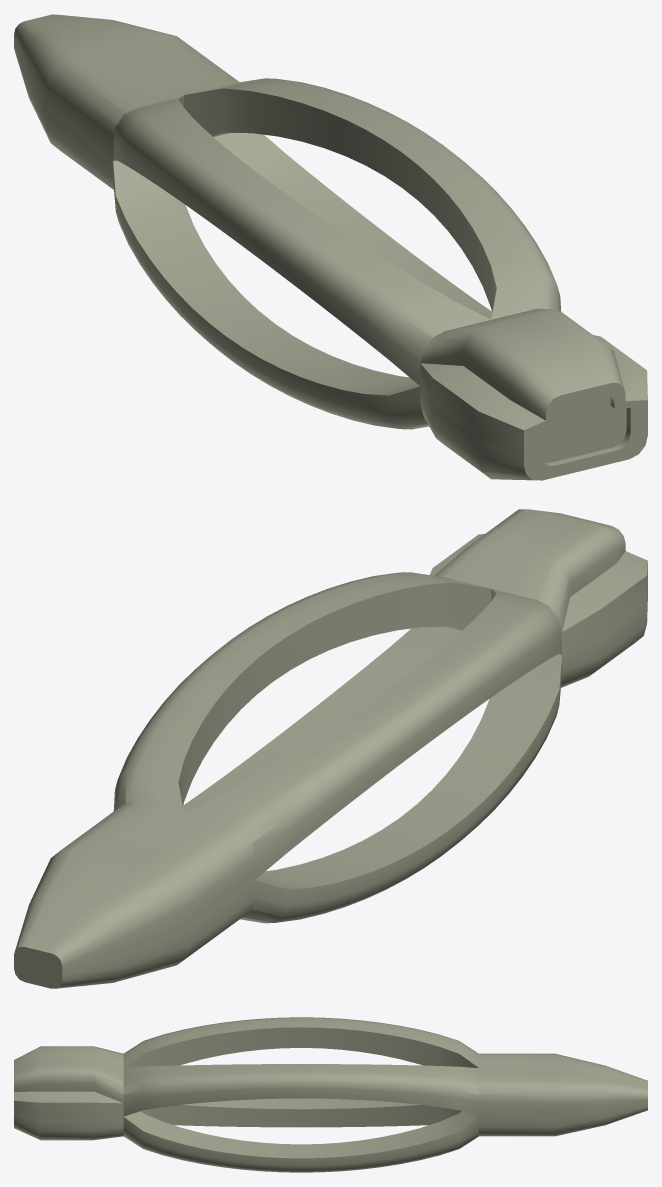
File: kelvane_carrier.glb
The picture shows the model from 3 angles, top to bottom: view 1: azimuth 30°, elevation 25°; view 2: azimuth 150°, elevation 25°; view 3: azimuth 270°, elevation 25°; orthographic projection. The views are drawn at different scales.
Parts seen in each view (by area): view 1: hull; view 2: hull; view 3: hull.
Boxes of the visible parts, x1=… form: hull: x1=14, y1=14, x2=647, y2=480; hull: x1=14, y1=509, x2=647, y2=988; hull: x1=14, y1=1017, x2=647, y2=1172.
Size of the model in its own units: 51.63 by 36.97 by 214.
